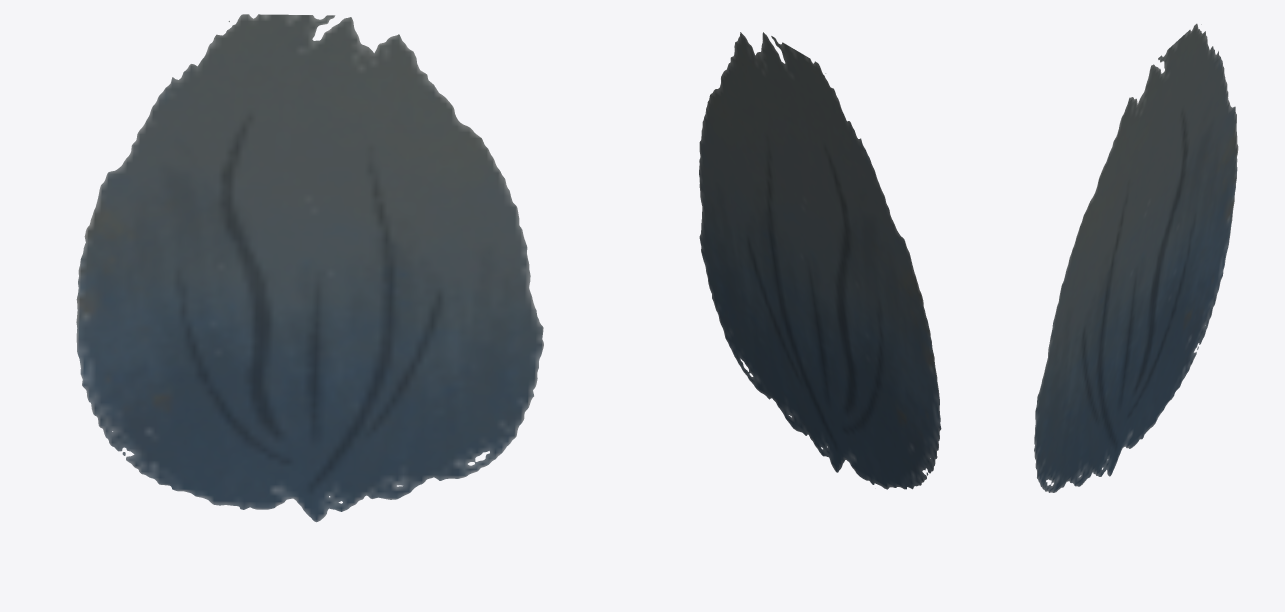
The model's file is tree4.fbx.
3 renders of one model, left to right at view 1: azimuth 30°, elevation 25°; view 2: azimuth 150°, elevation 25°; view 3: azimuth 270°, elevation 25°, orthographic. The views are drawn at different scales.
Visible parts, largest first — view 1: tree4; view 2: tree4; view 3: tree4.
Boxes of the visible parts, x1,y1,x2,y2 form: tree4: (76, 14, 543, 522); tree4: (699, 32, 941, 489); tree4: (1034, 23, 1238, 492).
Bounding box in the file's own units: 167 × 185 × 87.41.
